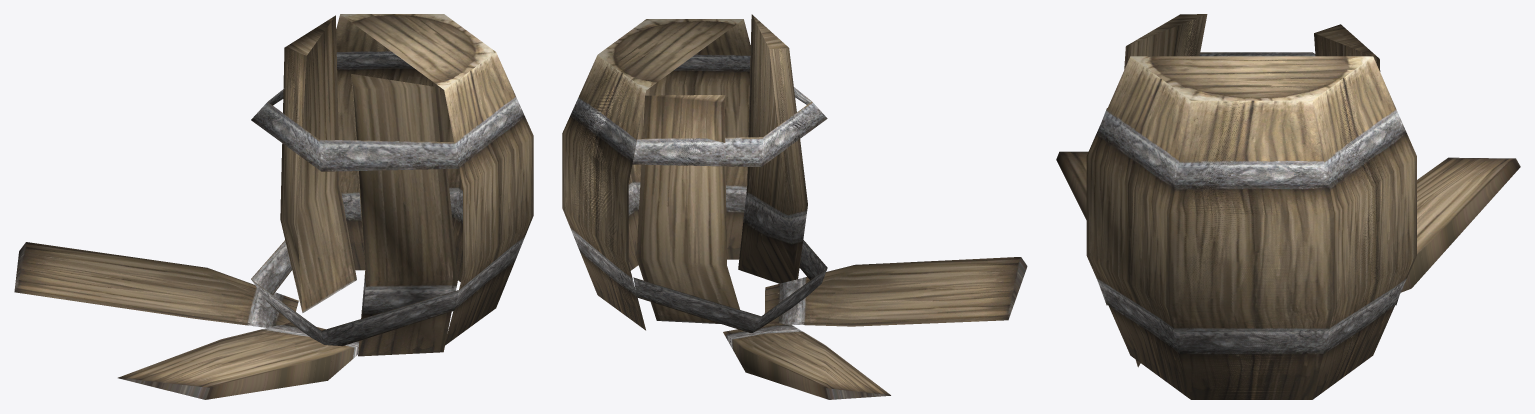
File: brokenbarrel02.obj
The picture shows the model from 3 angles, left to right: view 1: azimuth 30°, elevation 25°; view 2: azimuth 150°, elevation 25°; view 3: azimuth 270°, elevation 25°; orthographic projection. The views are drawn at different scales.
Parts seen in each view (by area): view 1: brokenbarrel02; view 2: brokenbarrel02; view 3: brokenbarrel02.
Part boxes in pixels (<box>): brokenbarrel02: <box>14,14,533,399</box>; brokenbarrel02: <box>562,14,1027,399</box>; brokenbarrel02: <box>1056,14,1520,399</box>.
Size of the model in its own units: 1.66 by 1.05 by 1.4.
1 material, 1 textured.
